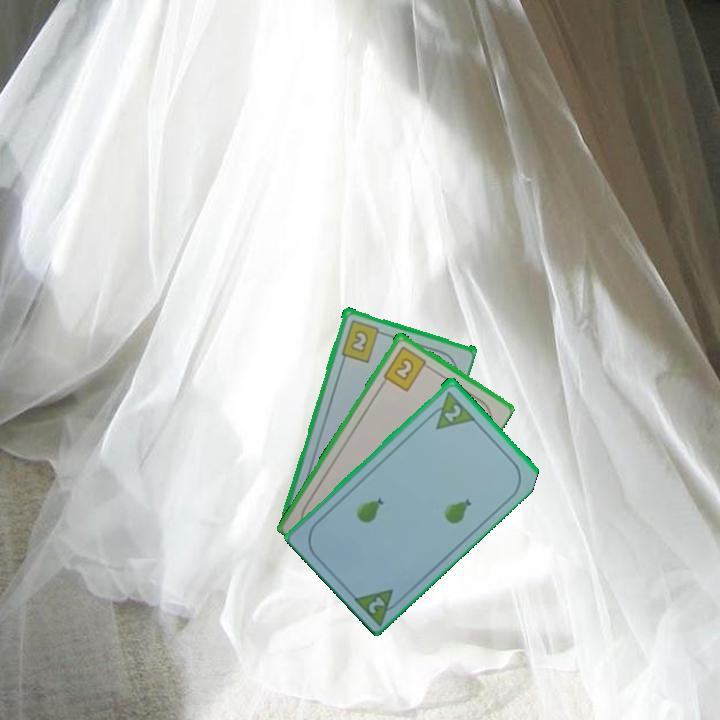2b: (380, 342, 433, 394), (337, 316, 387, 365)
2p: (349, 585, 406, 627), (424, 387, 477, 432)
